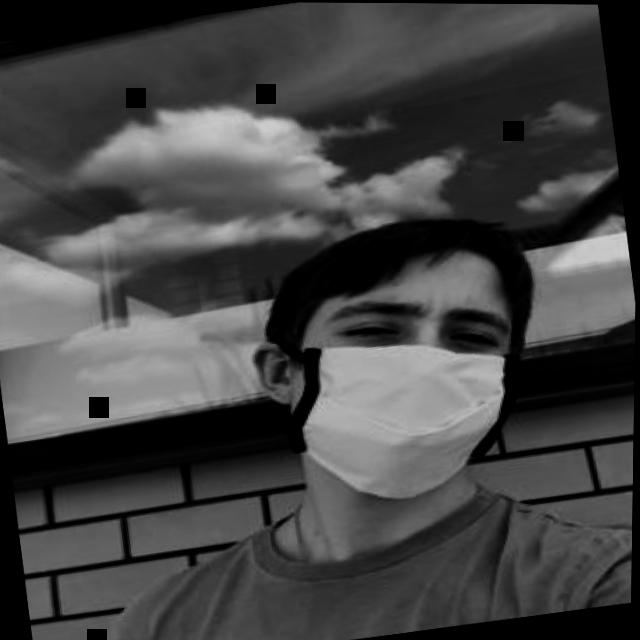Mask: (279, 269, 542, 512)
